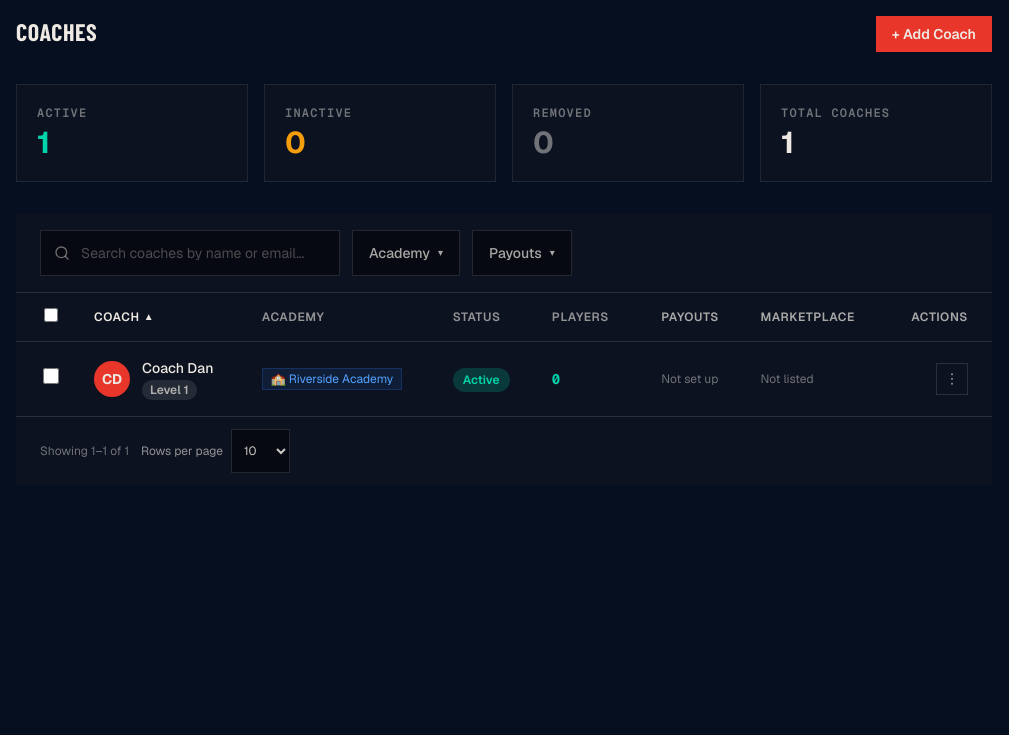
CoachesClient › removing the sole coach for an academy is blocked with an explanatory message, no confirm dialog
Check: the text "Coach Dan" is shown, box 142,358 -> 213,378
Step 1. Click the button named "More actions" → click(952, 379), box 936,363 -> 968,395
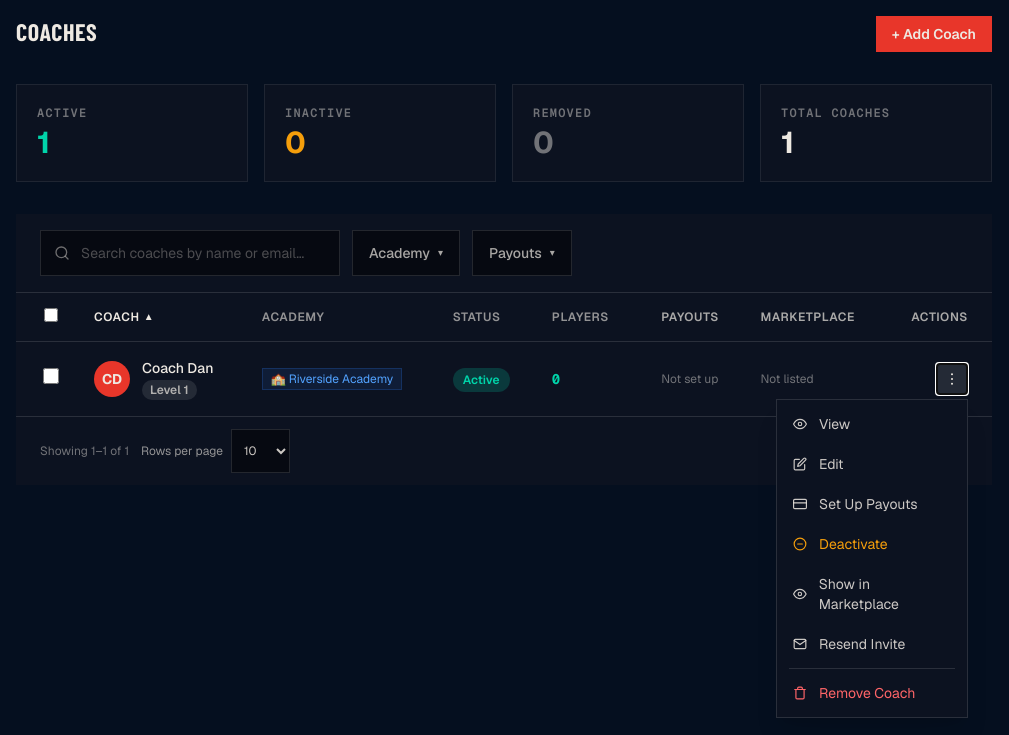
Step 2. Click the button "Remove Coach" → click(872, 693), box 777,673 -> 967,713
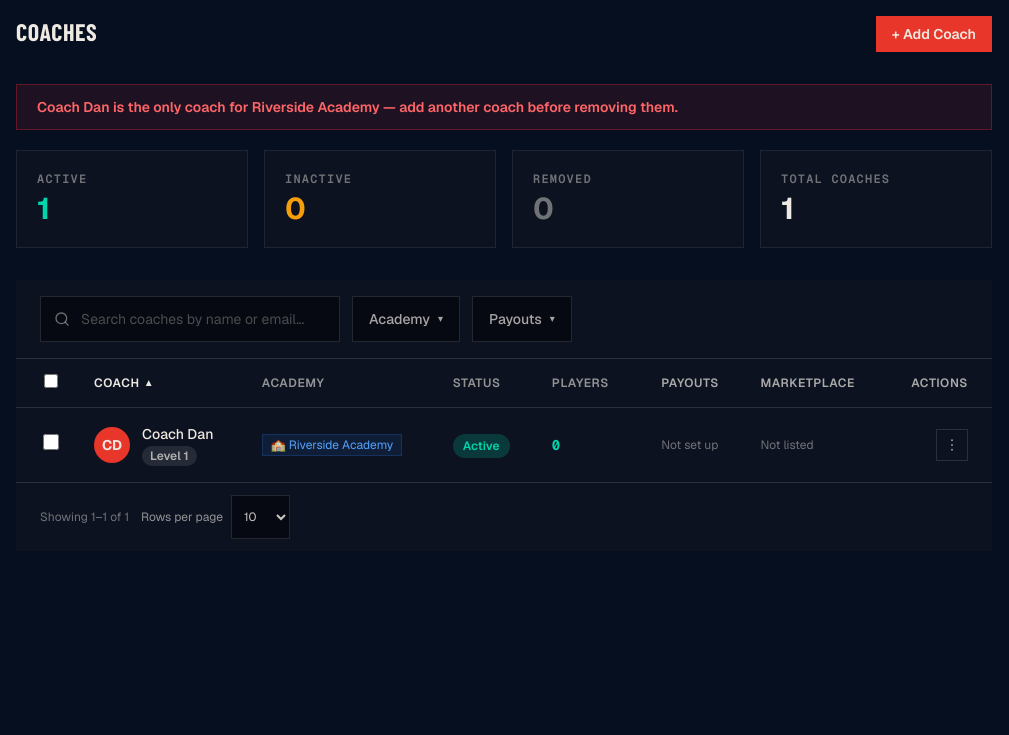
Check: the text "Coach Dan is the only coach for Riverside Academy" is shown, box 37,98 -> 678,116
Check: the button "Remove Coach?" is gone
